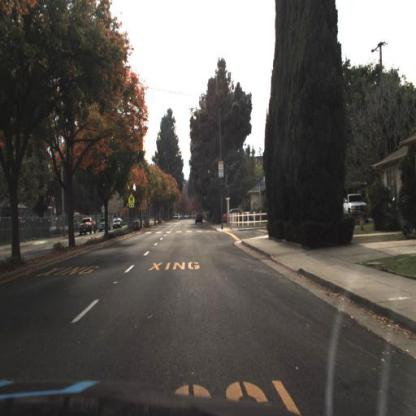car: (344, 193, 367, 220), (80, 218, 98, 238), (193, 210, 207, 229), (98, 216, 110, 230), (113, 217, 123, 229)
